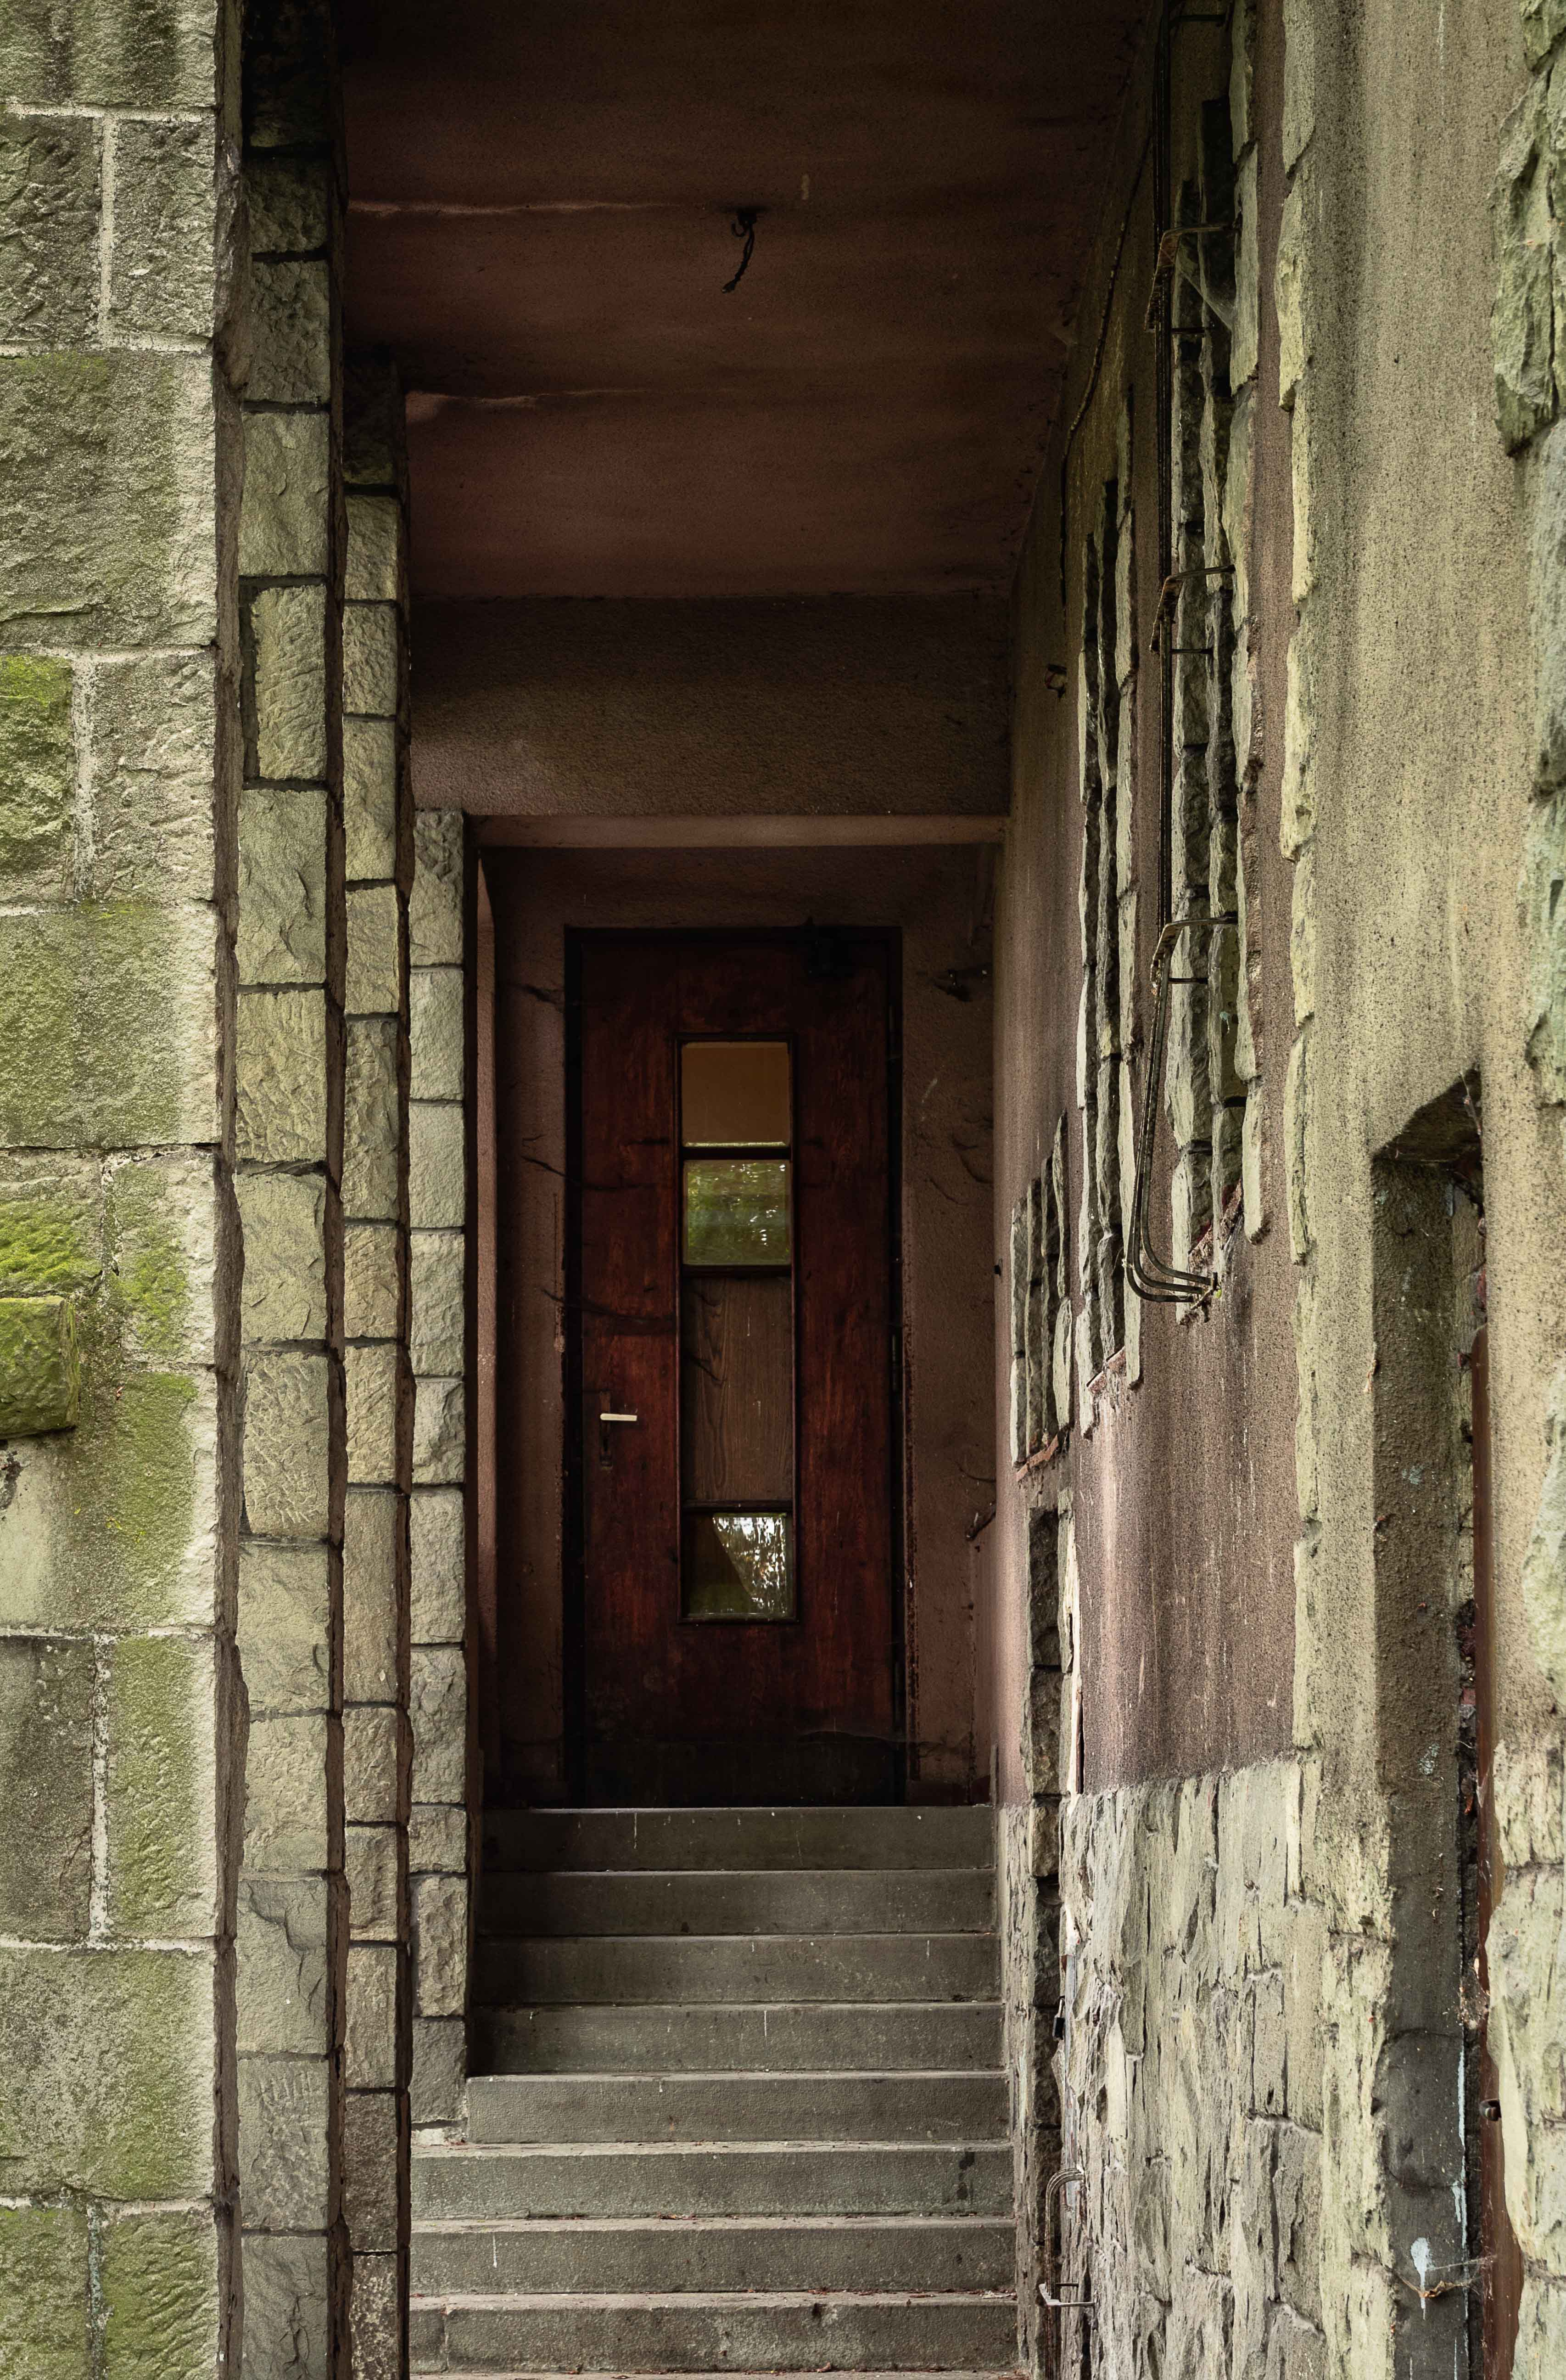upstairs: (496, 1793, 1014, 2380)
